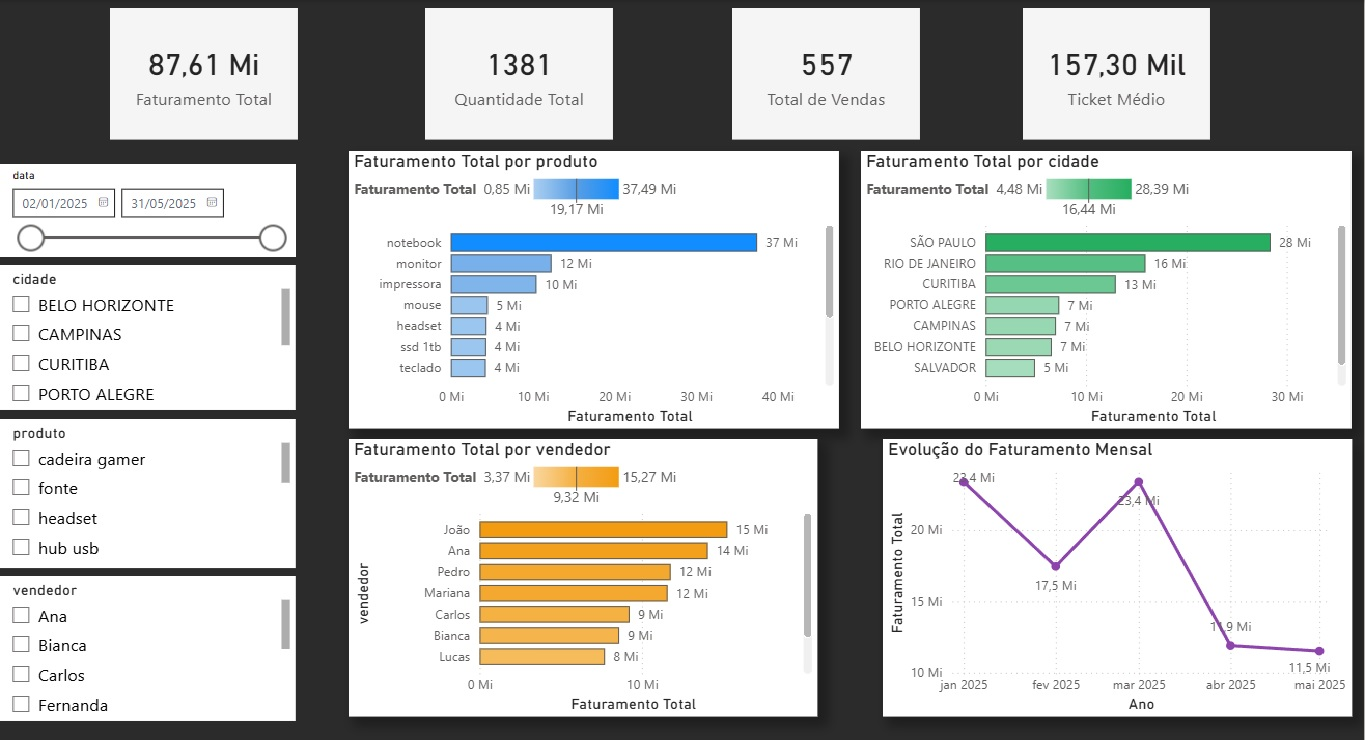

This screenshot's page, from the dashboard's own definition file:
{"tool":"powerbi","page":{"name":"Página 1","canvas":[1280,720],"ordinal":0},"visuals":[{"type":"card","fields":{"Values":["vendas_tratadas.Faturamento Total"]},"box":[104,8,176,128],"z":0},{"type":"card","fields":{"Values":["vendas_tratadas.Total de Vendas"]},"box":[688,8,176,128],"z":1000},{"type":"card","fields":{"Values":["vendas_tratadas.Quantidade Total"]},"box":[400,8,176,128],"z":2000},{"type":"card","fields":{"Values":["vendas_tratadas.Ticket Médio"]},"box":[960,8,176,128],"z":3000},{"type":"clusteredBarChart","fields":{"Category":["vendas_tratadas.produto"],"Y":["vendas_tratadas.Faturamento Total"]},"box":[327.8,146.9,460.1,270.4],"z":4000},{"type":"clusteredBarChart","fields":{"Category":["vendas_tratadas.cidade"],"Y":["vendas_tratadas.Faturamento Total"]},"box":[808.3,146.9,460.1,270.4],"z":5000},{"type":"clusteredBarChart","fields":{"Category":["vendas_tratadas.vendedor"],"Y":["vendas_tratadas.Faturamento Total"]},"box":[327.8,427,439.6,270.4],"z":6000},{"type":"lineChart","title":"Evolução do Faturamento Mensal","fields":{"Category":["vendas_tratadas.data.Variation.Hierarquia de datas.Ano","vendas_tratadas.data.Variation.Hierarquia de datas.Mês"],"Y":["vendas_tratadas.Faturamento Total"]},"box":[828.7,427,439.6,270.4],"z":7000},{"type":"slicer","fields":{"Values":["vendas_tratadas.cidade"]},"box":[0,258.1,278.2,141],"z":8000},{"type":"slicer","fields":{"Values":["vendas_tratadas.produto"]},"box":[0,407.2,278.2,144.9],"z":9000},{"type":"slicer","fields":{"Values":["vendas_tratadas.vendedor"]},"box":[0,560.2,278.2,141],"z":10000},{"type":"slicer","fields":{"Values":["vendas_tratadas.data"]},"box":[0,159.5,278.2,90.5],"z":11000}]}

Visuals, with their boxes in screenshot pixels (x1, y1, x2, y2):
card - vendas_tratadas.Faturamento Total: box=[120, 8, 298, 138]
card - vendas_tratadas.Total de Vendas: box=[711, 8, 889, 138]
card - vendas_tratadas.Quantidade Total: box=[419, 8, 598, 138]
card - vendas_tratadas.Ticket Médio: box=[986, 8, 1165, 138]
clusteredBarChart - vendas_tratadas.produto x vendas_tratadas.Faturamento Total: box=[346, 149, 812, 423]
clusteredBarChart - vendas_tratadas.cidade x vendas_tratadas.Faturamento Total: box=[833, 149, 1299, 423]
clusteredBarChart - vendas_tratadas.vendedor x vendas_tratadas.Faturamento Total: box=[346, 432, 791, 706]
"Evolução do Faturamento Mensal" lineChart: box=[853, 432, 1299, 706]
slicer - vendas_tratadas.cidade: box=[14, 261, 296, 404]
slicer - vendas_tratadas.produto: box=[14, 412, 296, 559]
slicer - vendas_tratadas.vendedor: box=[14, 567, 296, 710]
slicer - vendas_tratadas.data: box=[14, 162, 296, 253]
